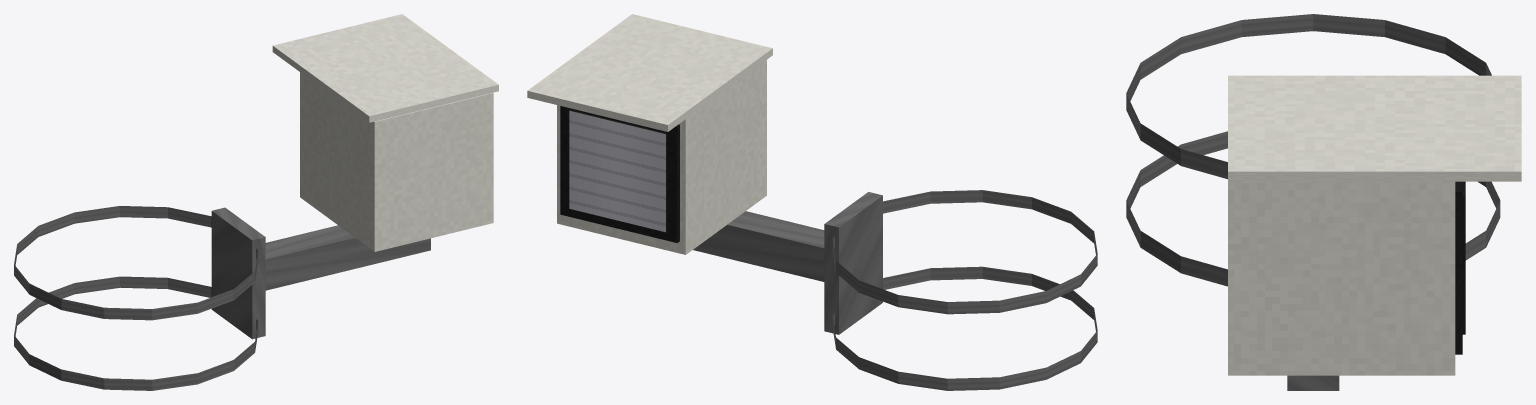
The model's file is flash_unit_side_left.obj.
3 renders of one model, left to right at view 1: azimuth 30°, elevation 25°; view 2: azimuth 150°, elevation 25°; view 3: azimuth 270°, elevation 25°, orthographic. The views are drawn at different scales.
Parts seen in each view (by area): view 1: flash_unit_side_left; view 2: flash_unit_side_left; view 3: flash_unit_side_left.
Boxes of the visible parts, <box> form: flash_unit_side_left: <box>14,14,498,390</box>; flash_unit_side_left: <box>527,14,1097,390</box>; flash_unit_side_left: <box>1126,14,1521,390</box>.
Size of the model in its own units: 1.63 by 0.715 by 0.835.
